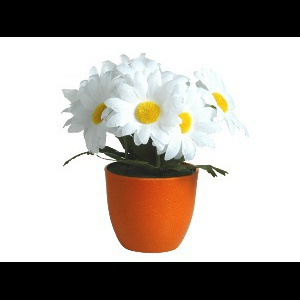flowerpot: (105, 156, 200, 253)
